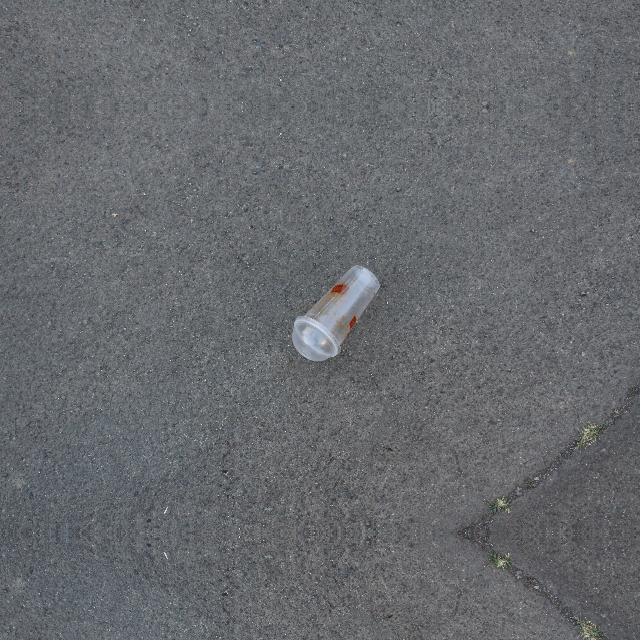Plastic: (292, 264, 381, 362)
